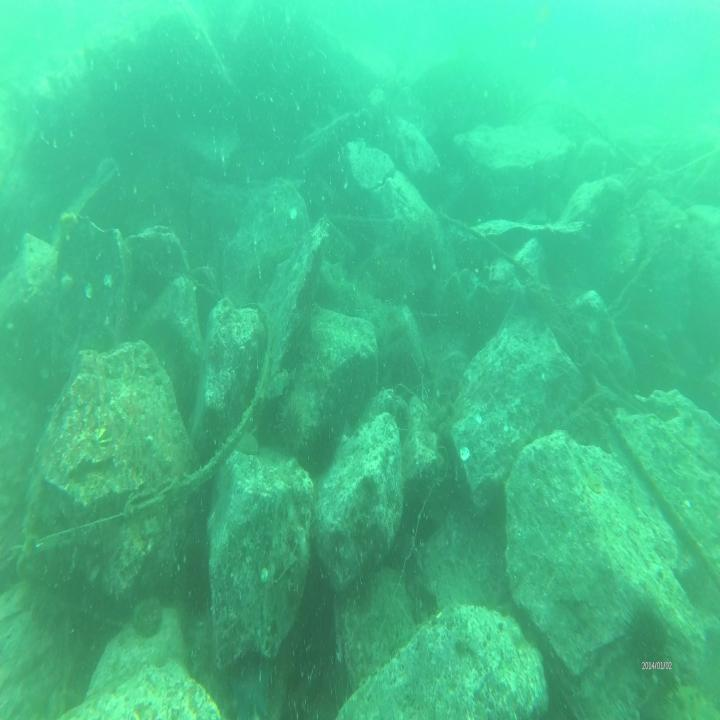echinus: (625, 607, 670, 666), (304, 415, 334, 469), (272, 404, 296, 450)
